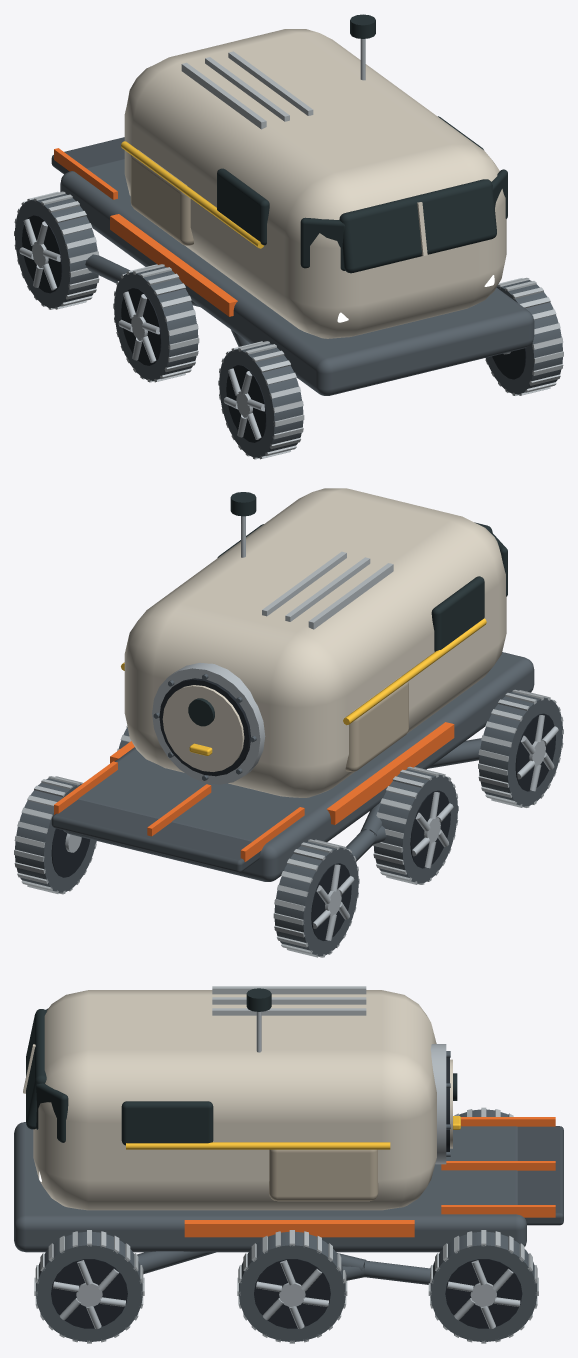
The model's file is base-boss-utility-rover.glb.
3 renders of one model, top to bottom at view 1: azimuth 30°, elevation 25°; view 2: azimuth 150°, elevation 25°; view 3: azimuth 270°, elevation 25°, orthographic. The views are drawn at different scales.
Visible parts, largest first — view 1: base-boss-utility-rover-warm-ceramic-insulation, base-boss-utility-rover-dark-steel, base-boss-utility-rover-shadowed-pressure-glass, wheel_fl-dark-steel, wheel_ml-dark-steel, wheel_rl-dark-steel, base-boss-utility-rover-safety-orange, base-boss-utility-rover-oatmeal-thermal-blanket, wheel_fr-dark-steel, base-boss-utility-rover-panel-grey, wheel_ml-panel-grey, wheel_fl-panel-grey (+12 smaller); view 2: base-boss-utility-rover-warm-ceramic-insulation, base-boss-utility-rover-dark-steel, base-boss-utility-rover-floor-grate, base-boss-utility-rover-safety-orange, pressure_hatch-warm-ceramic-insulation, wheel_rl-dark-steel, wheel_fl-dark-steel, wheel_ml-dark-steel, pressure_hatch-aluminium, base-boss-utility-rover-oatmeal-thermal-blanket, wheel_rr-dark-steel, base-boss-utility-rover-shadowed-pressure-glass (+15 smaller); view 3: base-boss-utility-rover-warm-ceramic-insulation, base-boss-utility-rover-dark-steel, base-boss-utility-rover-safety-orange, base-boss-utility-rover-shadowed-pressure-glass, base-boss-utility-rover-oatmeal-thermal-blanket, wheel_fr-dark-steel, wheel_rr-dark-steel, wheel_mr-dark-steel, base-boss-utility-rover-floor-grate, base-boss-utility-rover-panel-grey, wheel_fr-dark-polymer, wheel_mr-dark-polymer (+10 smaller).
Part boxes in pixels (left/top/right/bottom): base-boss-utility-rover-warm-ceramic-insulation: left=124, top=29, right=506, bottom=338; base-boss-utility-rover-dark-steel: left=60, top=159, right=534, bottom=395; base-boss-utility-rover-shadowed-pressure-glass: left=217, top=14, right=496, bottom=273; wheel_fl-dark-steel: left=219, top=343, right=303, bottom=457; wheel_ml-dark-steel: left=114, top=266, right=198, bottom=380; wheel_rl-dark-steel: left=14, top=193, right=98, bottom=308; base-boss-utility-rover-safety-orange: left=54, top=148, right=237, bottom=316; base-boss-utility-rover-oatmeal-thermal-blanket: left=130, top=150, right=193, bottom=245; wheel_fr-dark-steel: left=485, top=280, right=562, bottom=394; base-boss-utility-rover-panel-grey: left=181, top=51, right=313, bottom=129; wheel_ml-panel-grey: left=113, top=264, right=199, bottom=382; wheel_fl-panel-grey: left=218, top=341, right=304, bottom=459; base-boss-utility-rover-warm-ceramic-insulation: left=124, top=488, right=506, bottom=797; base-boss-utility-rover-dark-steel: left=63, top=652, right=534, bottom=881; base-boss-utility-rover-floor-grate: left=51, top=799, right=260, bottom=872; base-boss-utility-rover-safety-orange: left=54, top=722, right=454, bottom=861; pressure_hatch-warm-ceramic-insulation: left=162, top=685, right=244, bottom=771; wheel_rl-dark-steel: left=274, top=841, right=358, bottom=956; wheel_fl-dark-steel: left=479, top=692, right=562, bottom=806; wheel_ml-dark-steel: left=374, top=769, right=457, bottom=883; pressure_hatch-aluminium: left=152, top=662, right=265, bottom=784; base-boss-utility-rover-oatmeal-thermal-blanket: left=345, top=676, right=408, bottom=771; wheel_rr-dark-steel: left=15, top=778, right=96, bottom=892; base-boss-utility-rover-shadowed-pressure-glass: left=217, top=492, right=492, bottom=651; base-boss-utility-rover-warm-ceramic-insulation: left=23, top=990, right=436, bottom=1210; base-boss-utility-rover-dark-steel: left=14, top=1122, right=526, bottom=1284; base-boss-utility-rover-safety-orange: left=184, top=1117, right=555, bottom=1237; base-boss-utility-rover-shadowed-pressure-glass: left=26, top=988, right=271, bottom=1145; base-boss-utility-rover-oatmeal-thermal-blanket: left=269, top=1149, right=378, bottom=1201; wheel_fr-dark-steel: left=36, top=1231, right=142, bottom=1342; wheel_rr-dark-steel: left=430, top=1231, right=537, bottom=1342; wheel_mr-dark-steel: left=239, top=1231, right=345, bottom=1342; base-boss-utility-rover-floor-grate: left=517, top=1126, right=563, bottom=1225; base-boss-utility-rover-panel-grey: left=212, top=986, right=366, bottom=1015; wheel_fr-dark-polymer: left=51, top=1259, right=127, bottom=1328; wheel_mr-dark-polymer: left=254, top=1259, right=330, bottom=1328.
Bounding box in the file's own units: 3.21 × 3.29 × 5.28.
